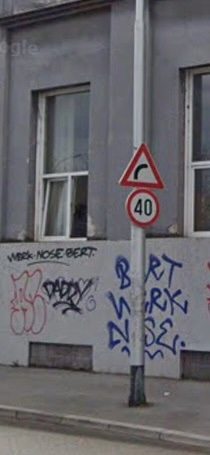Ograničenje brzine 40: (126, 188, 160, 228)
